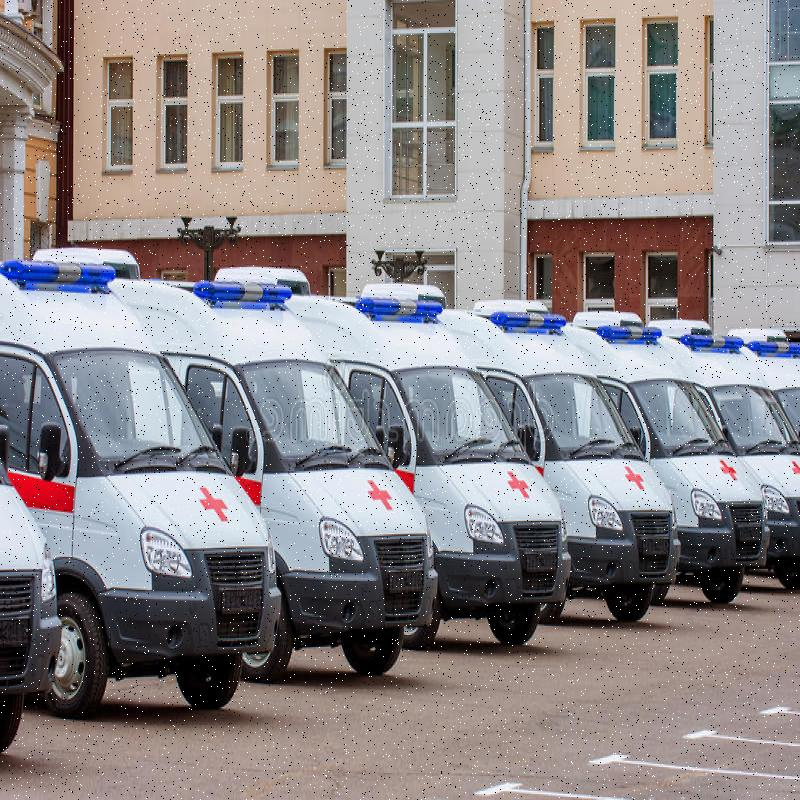AmbulanceSiren: (16, 245, 122, 303), (189, 266, 291, 323), (352, 276, 446, 335)
